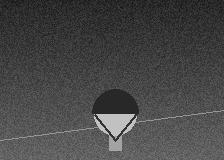helmet: (92, 89, 138, 140)
